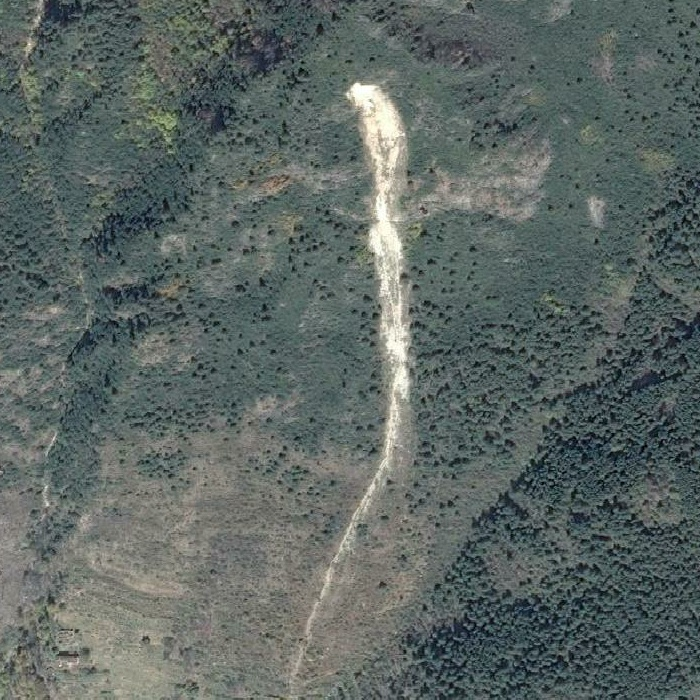slope: (336, 78, 418, 460)
